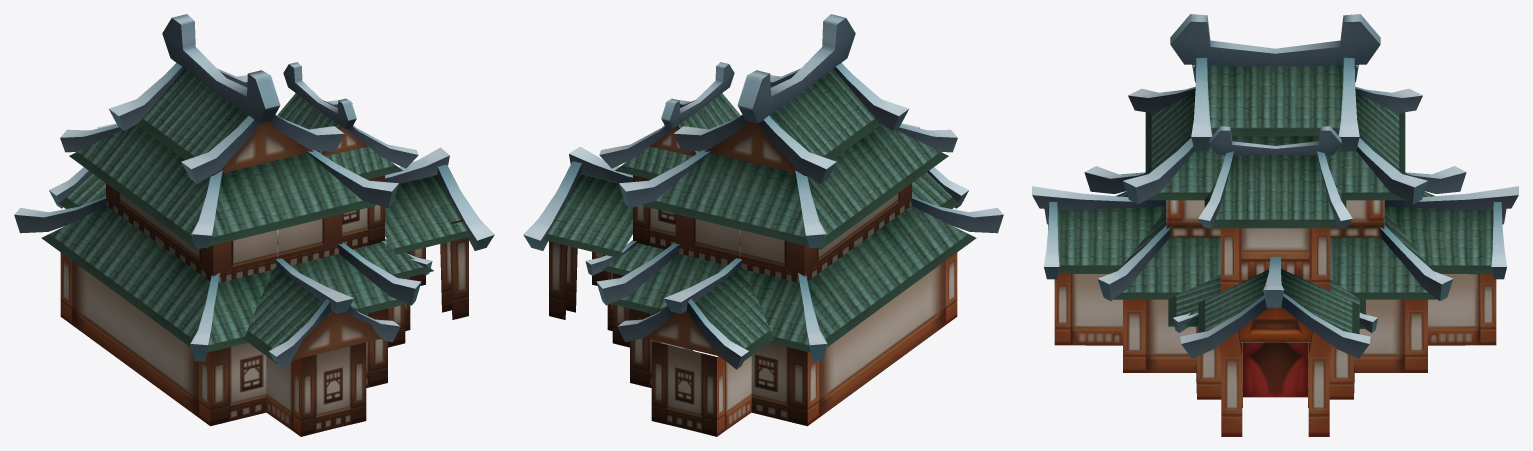
The model's file is QSMY_City_ZaoXianGuan.FBX.
3 renders of one model, left to right at view 1: azimuth 30°, elevation 25°; view 2: azimuth 150°, elevation 25°; view 3: azimuth 270°, elevation 25°, orthographic.
Parts seen in each view (by area): view 1: object 2, Object02; view 2: object 2, Object02; view 3: object 2, Object02.
Part boxes in pixels (<box>): object 2: <box>14,14,494,436</box>; Object02: <box>41,69,470,363</box>; object 2: <box>523,14,1003,436</box>; Object02: <box>544,69,976,361</box>; object 2: <box>1032,14,1518,436</box>; Object02: <box>1048,65,1493,334</box>.
Size of the model in its own units: 20.43 by 17.14 by 24.45.
